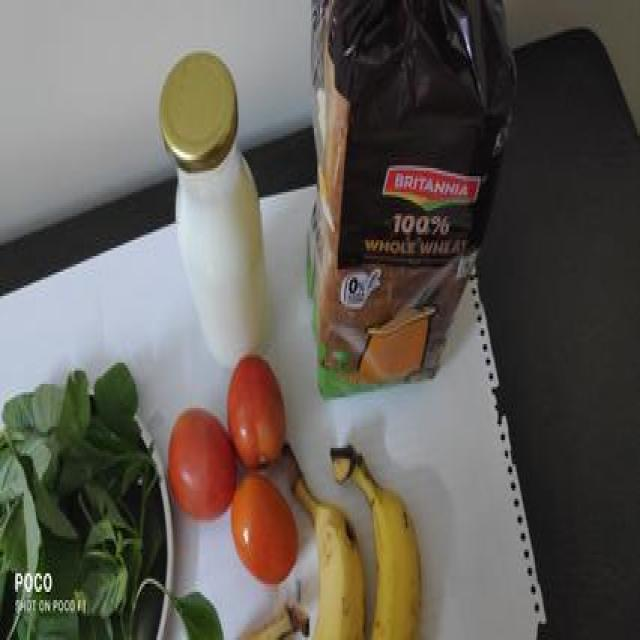Fresh_Spinach: (0, 357, 166, 640)
Fresh_tomato: (168, 359, 304, 569), (224, 475, 299, 595), (168, 413, 236, 512), (228, 381, 285, 469)
